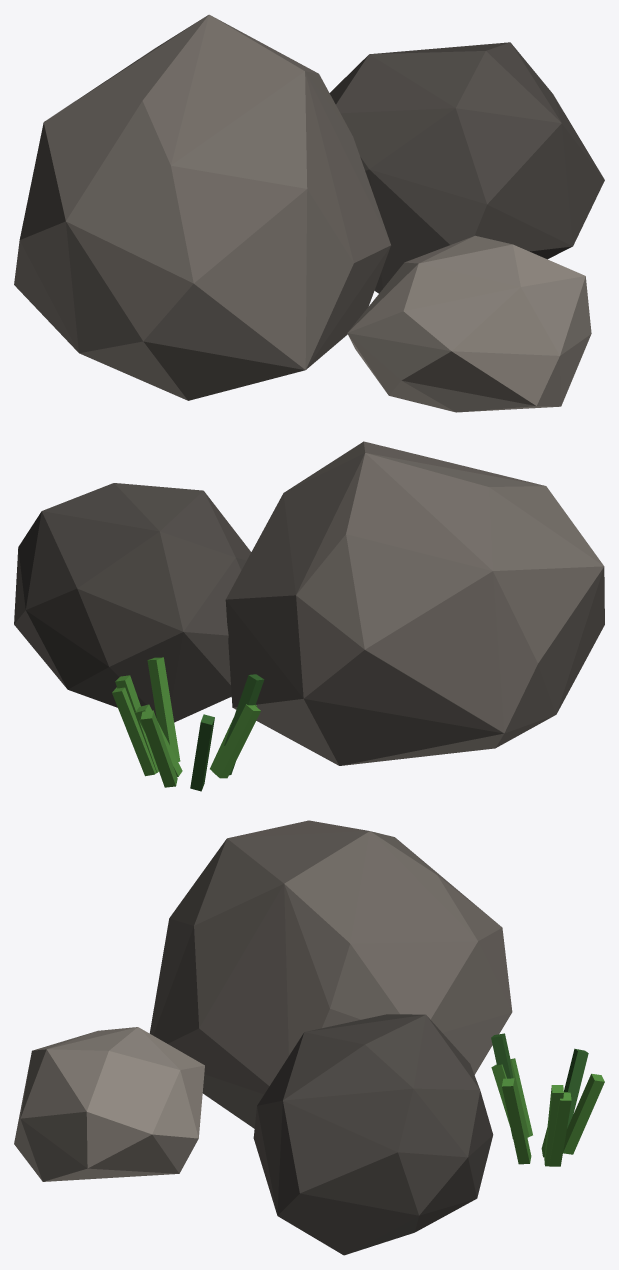
The model's file is rocher_prairie_2.glb.
3 renders of one model, top to bottom at view 1: azimuth 30°, elevation 25°; view 2: azimuth 150°, elevation 25°; view 3: azimuth 270°, elevation 25°, orthographic. The views are drawn at different scales.
Visible parts, largest first — view 1: roche_pierre.012, roche_pierre_sombre.010, roche_pierre_claire.006; view 2: roche_pierre.012, roche_pierre_sombre.010, herbe_feuille.004, herbe_feuille_sombre.002; view 3: roche_pierre.012, roche_pierre_sombre.010, roche_pierre_claire.006, herbe_feuille.004, herbe_feuille_sombre.002.
Boxes of the visible parts, x1=… form: roche_pierre.012: x1=14, y1=14, x2=390, y2=400; roche_pierre_sombre.010: x1=329, y1=42, x2=604, y2=293; roche_pierre_claire.006: x1=347, y1=235, x2=591, y2=412; roche_pierre.012: x1=225, y1=441, x2=604, y2=765; roche_pierre_sombre.010: x1=14, y1=483, x2=251, y2=722; herbe_feuille.004: x1=112, y1=657, x2=260, y2=787; herbe_feuille_sombre.002: x1=190, y1=674, x2=264, y2=791; roche_pierre.012: x1=149, y1=820, x2=512, y2=1128; roche_pierre_sombre.010: x1=253, y1=1014, x2=493, y2=1255; roche_pierre_claire.006: x1=14, y1=1027, x2=204, y2=1181; herbe_feuille.004: x1=491, y1=1058, x2=604, y2=1166; herbe_feuille_sombre.002: x1=491, y1=1033, x2=588, y2=1138.
Bounding box in the file's own units: 0.8879 × 0.4633 × 0.8933.
